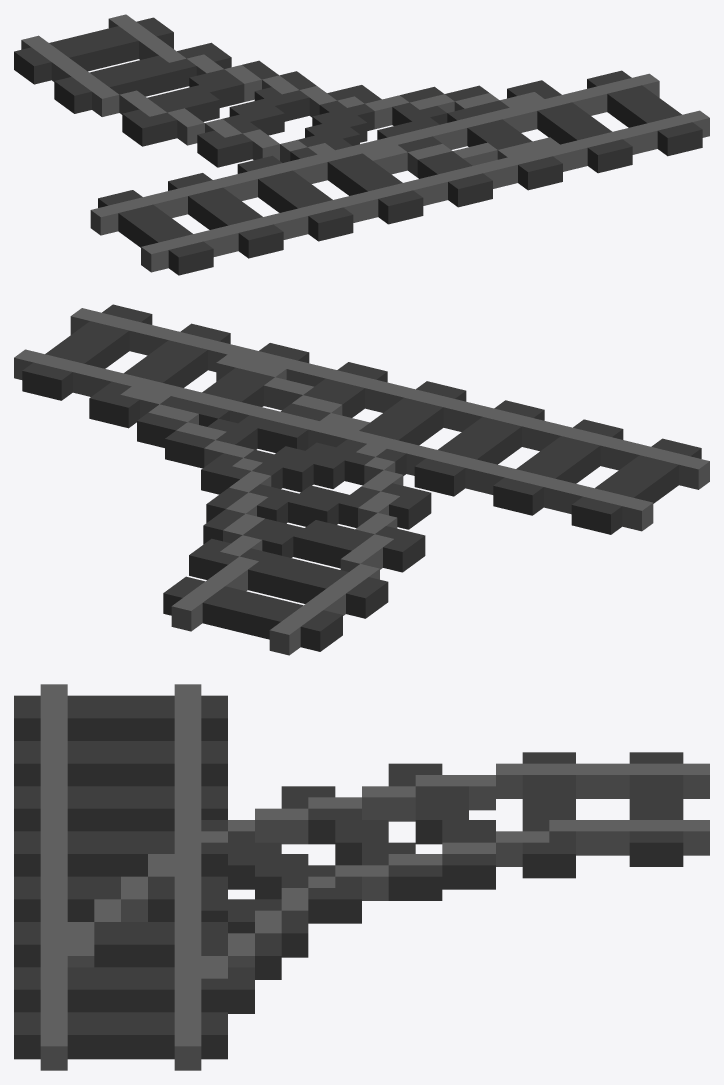
Rendered from track-switch-6.gltf.
3 renders of one model, top to bottom at view 1: azimuth 30°, elevation 25°; view 2: azimuth 150°, elevation 25°; view 3: azimuth 270°, elevation 25°, orthographic. The views are drawn at different scales.
Visible parts, largest first — view 1: track-switch-6; view 2: track-switch-6; view 3: track-switch-6.
Boxes of the visible parts, <box> form: track-switch-6: <box>14,14,709,275</box>; track-switch-6: <box>14,304,709,655</box>; track-switch-6: <box>14,684,709,1070</box>.
Bounding box in the file's own units: 3.2 × 0.1 × 2.6.
1 material, 1 textured.
